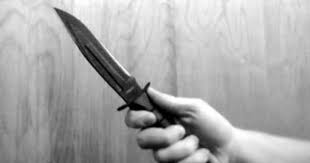knife: (49, 4, 214, 163)
